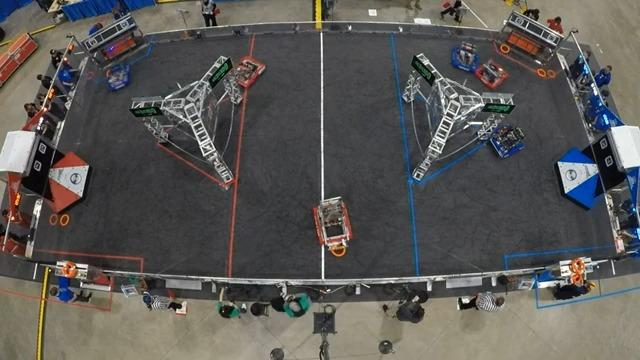robot: (309, 190, 359, 257), (488, 122, 527, 164), (231, 52, 266, 91), (475, 59, 513, 93), (98, 62, 139, 93), (455, 41, 480, 74)
